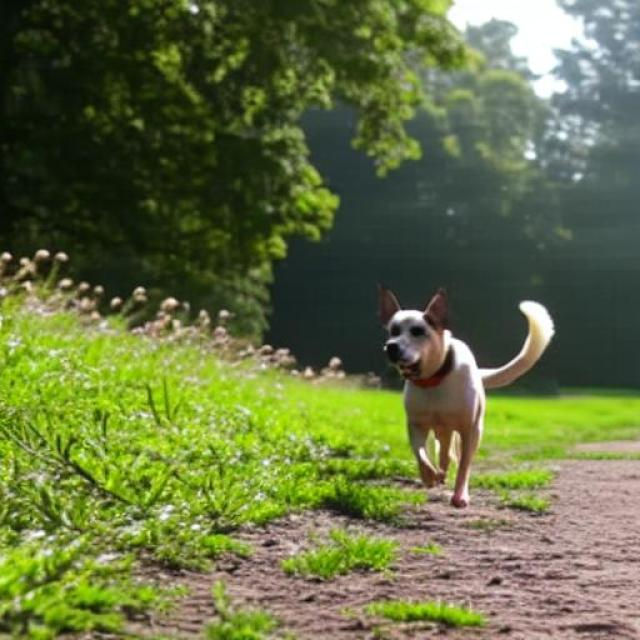Dog: (378, 280, 555, 508)
